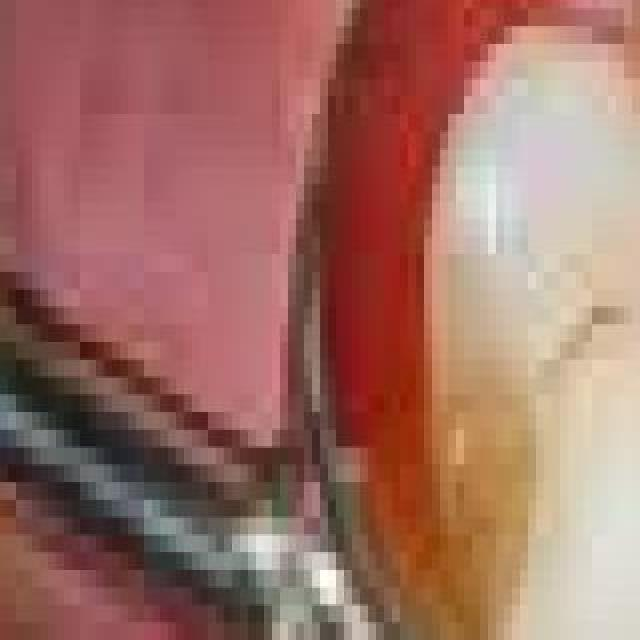cavities: (620, 0, 640, 218)
